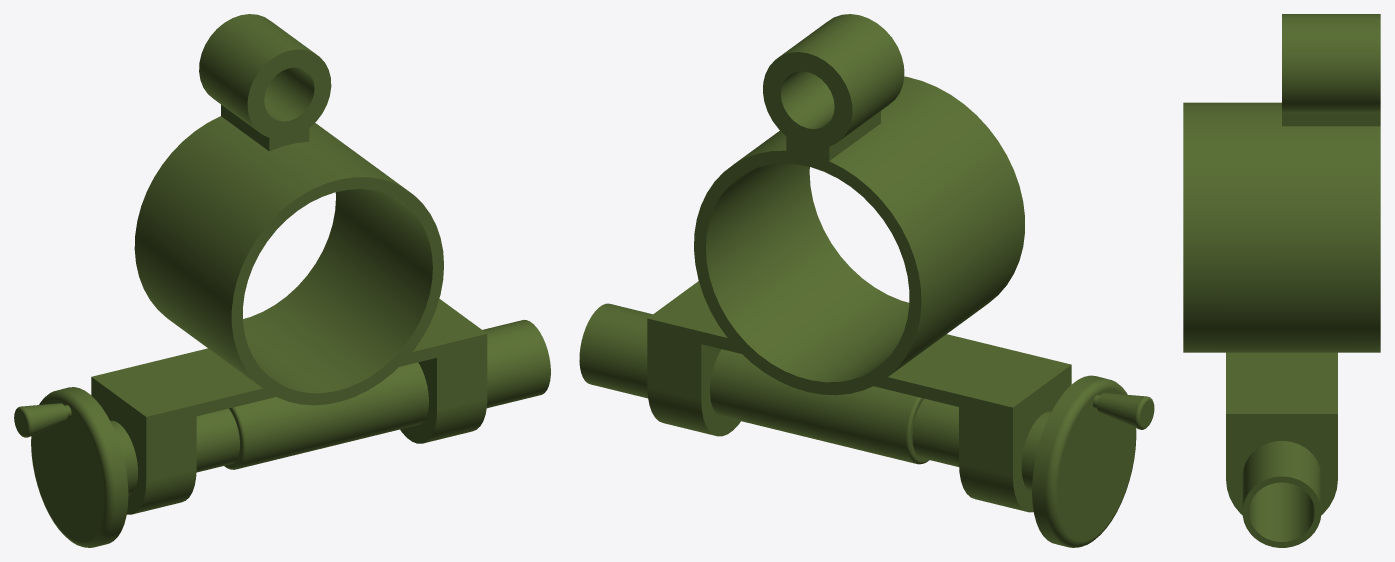
File: CoCauHuong.glb
3 renders of one model, left to right at view 1: azimuth 30°, elevation 25°; view 2: azimuth 150°, elevation 25°; view 3: azimuth 270°, elevation 25°, orthographic. The views are drawn at different scales.
Visible parts, largest first — view 1: CoCauHuong.003, CoCauHuong.002, CoCauHuong.001; view 2: CoCauHuong.003, CoCauHuong.002, CoCauHuong.001; view 3: CoCauHuong.003, CoCauHuong.001.
Boxes of the visible parts, x1=… form: CoCauHuong.003: x1=91, y1=14, x2=487, y2=514; CoCauHuong.002: x1=14, y1=387, x2=239, y2=547; CoCauHuong.001: x1=224, y1=320, x2=550, y2=469; CoCauHuong.003: x1=647, y1=14, x2=1071, y2=512; CoCauHuong.002: x1=912, y1=375, x2=1154, y2=547; CoCauHuong.001: x1=579, y1=303, x2=929, y2=464; CoCauHuong.003: x1=1183, y1=14, x2=1380, y2=514; CoCauHuong.001: x1=1242, y1=441, x2=1321, y2=547.
Bounding box in the file's own units: 183 × 150 × 60.
